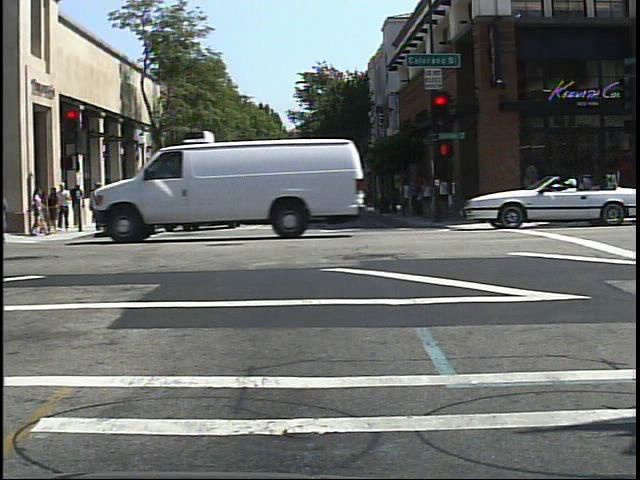person: (95, 180, 102, 231)
